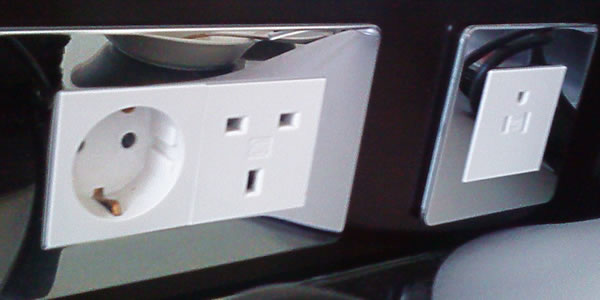outlet: (496, 84, 535, 139)
